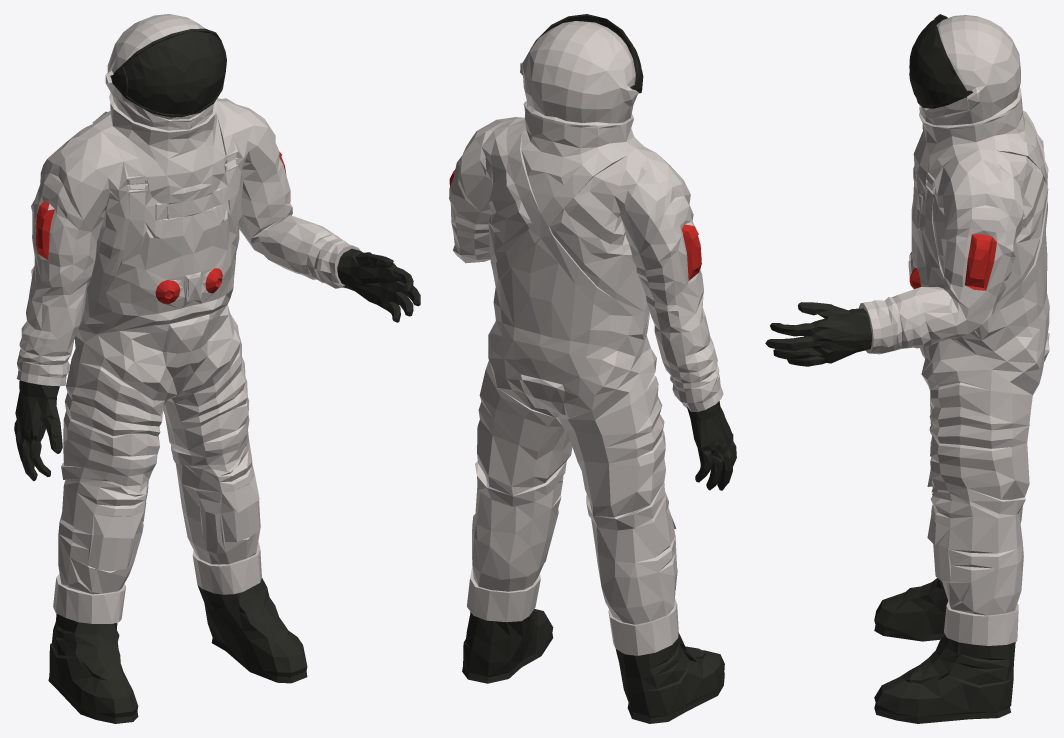
The model's file is 03 Astronaut.FBX.
3 renders of one model, left to right at view 1: azimuth 30°, elevation 25°; view 2: azimuth 150°, elevation 25°; view 3: azimuth 270°, elevation 25°, orthographic.
Parts seen in each view (by area): view 1: suit; view 2: suit; view 3: suit.
Part boxes in pixels (x1=…): suit: x1=14, y1=14, x2=420, y2=723; suit: x1=449, y1=14, x2=736, y2=723; suit: x1=765, y1=14, x2=1049, y2=723.
Size of the model in its own units: 882 by 1780 by 705.
